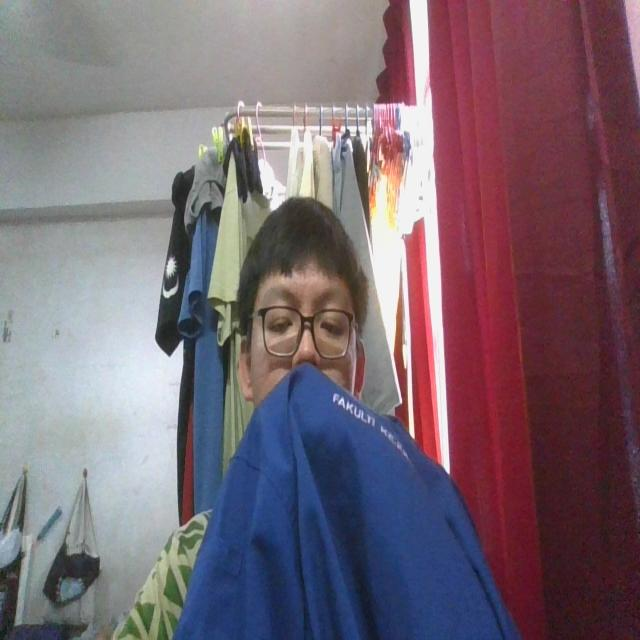person_without_labcoat: (123, 197, 520, 639)
